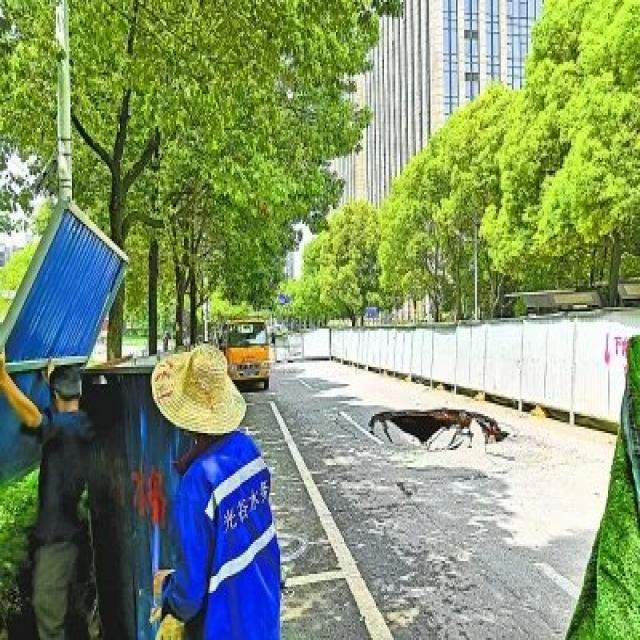Pothole: (365, 406, 507, 454)
